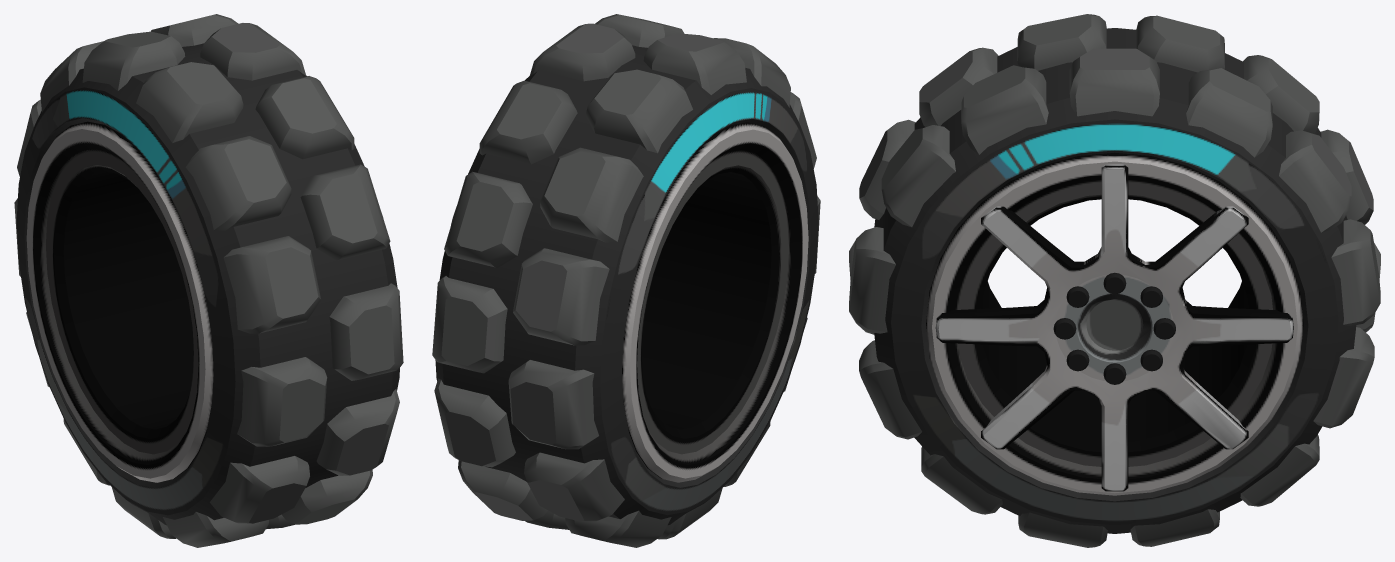
The model's file is HCR2_Rally_Whell_L.fbx.
The picture shows the model from 3 angles, left to right: view 1: azimuth 30°, elevation 25°; view 2: azimuth 150°, elevation 25°; view 3: azimuth 270°, elevation 25°; orthographic projection. The views are drawn at different scales.
Visible parts, largest first — view 1: HCR2_Rally_FL_Wheel; view 2: HCR2_Rally_FL_Wheel; view 3: HCR2_Rally_FL_Wheel.
Part boxes in pixels (box(x1,y1,x2,y2)): HCR2_Rally_FL_Wheel: box(14, 14, 403, 547); HCR2_Rally_FL_Wheel: box(432, 14, 820, 547); HCR2_Rally_FL_Wheel: box(849, 14, 1380, 547).
Size of the model in its own units: 36.72 by 85.4 by 85.75.
